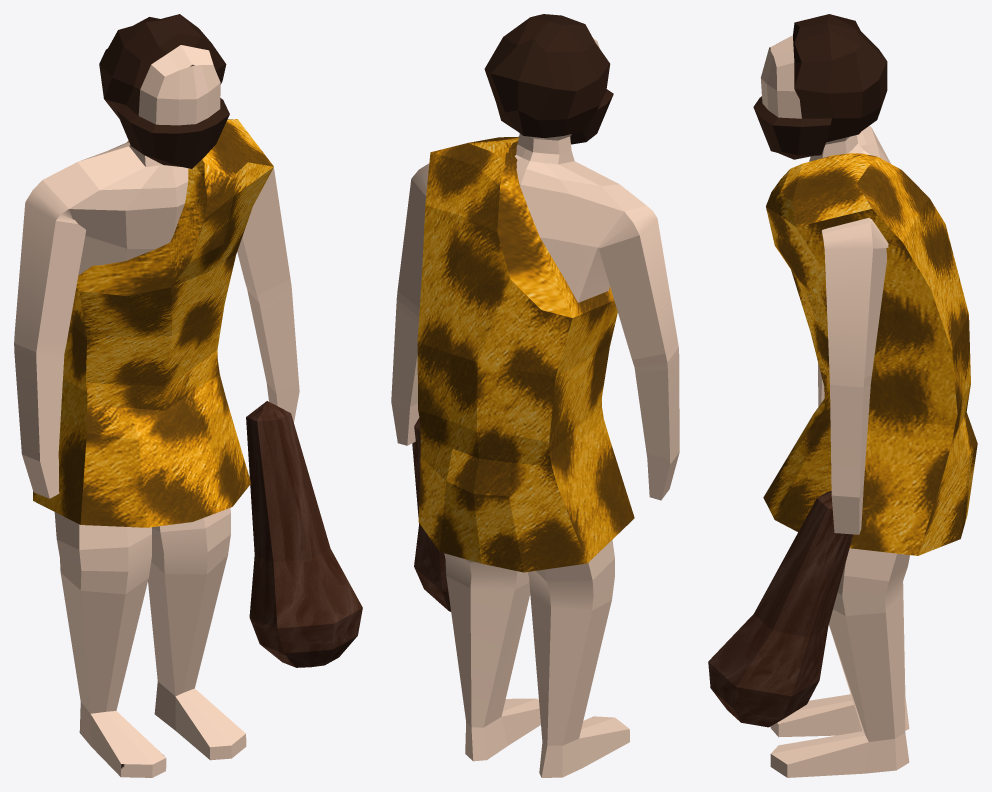
Rendered from lowpoly_caveman.glb.
3 renders of one model, left to right at view 1: azimuth 30°, elevation 25°; view 2: azimuth 150°, elevation 25°; view 3: azimuth 270°, elevation 25°, orthographic.
Parts seen in each view (by area): view 1: Object_3, Object_4, Object_2; view 2: Object_3, Object_4, Object_2; view 3: Object_4, Object_3, Object_2.
Part boxes in pixels (bbox=[...]): Object_3: bbox=[14, 14, 299, 777]; Object_4: bbox=[33, 119, 273, 527]; Object_2: bbox=[246, 401, 362, 667]; Object_3: bbox=[391, 14, 679, 777]; Object_4: bbox=[417, 136, 634, 572]; Object_2: bbox=[412, 417, 450, 611]; Object_4: bbox=[763, 153, 977, 555]; Object_3: bbox=[753, 14, 909, 777]; Object_2: bbox=[708, 491, 853, 727].
Bounding box in the file's own units: 1.55 × 3.73 × 1.26.
3 materials, 3 textured.
